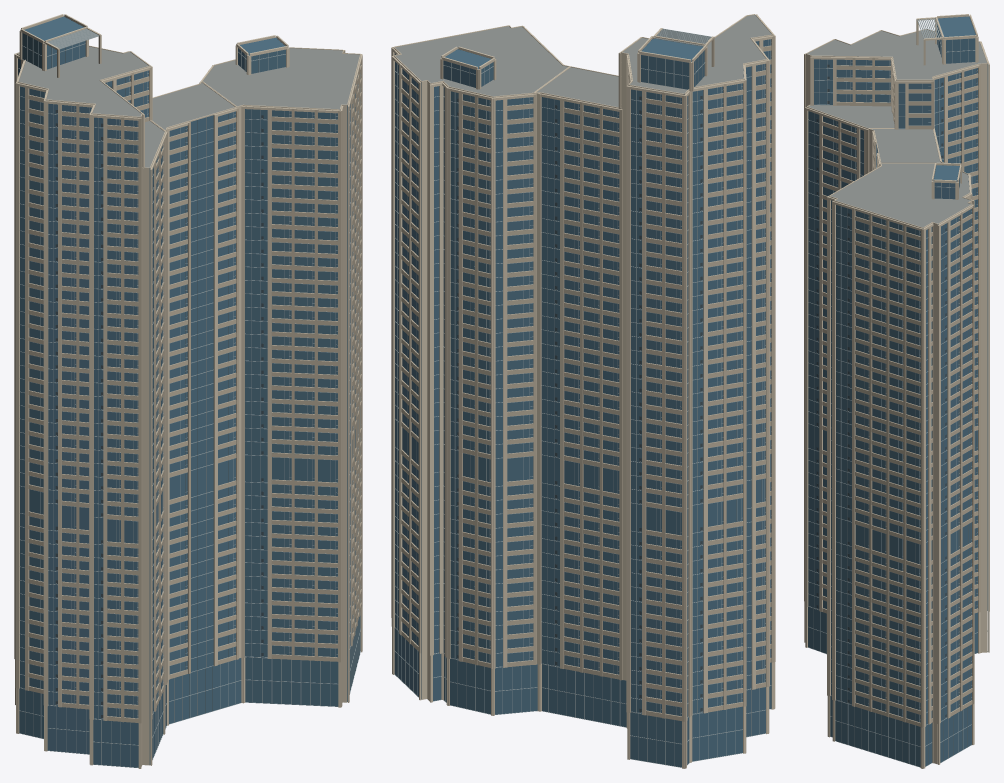
Rendered from bespoke-galleria-palace-a.glb.
3 views of the same model, side by side, from view 1: azimuth 30°, elevation 25°; view 2: azimuth 150°, elevation 25°; view 3: azimuth 270°, elevation 25° (orthographic). The views are drawn at different scales.
Visible parts, largest first — view 1: bespoke-galleria-palace-a_export_batch_2, bespoke-galleria-palace-a_export_batch_6, bespoke-galleria-palace-a_export_batch_3, bespoke-galleria-palace-a_export_batch_4, bespoke-galleria-palace-a_export_batch_5, bespoke-galleria-palace-a_export_batch_8, bespoke-galleria-palace-a_export_batch_7; view 2: bespoke-galleria-palace-a_export_batch_2, bespoke-galleria-palace-a_export_batch_6, bespoke-galleria-palace-a_export_batch_3, bespoke-galleria-palace-a_export_batch_4, bespoke-galleria-palace-a_export_batch_5, bespoke-galleria-palace-a_export_batch_8, bespoke-galleria-palace-a_export_batch_7; view 3: bespoke-galleria-palace-a_export_batch_2, bespoke-galleria-palace-a_export_batch_6, bespoke-galleria-palace-a_export_batch_3, bespoke-galleria-palace-a_export_batch_4, bespoke-galleria-palace-a_export_batch_5, bespoke-galleria-palace-a_export_batch_7.
Boxes of the visible parts, bbox=[...] form: bespoke-galleria-palace-a_export_batch_2: bbox=[18, 16, 360, 767]; bespoke-galleria-palace-a_export_batch_6: bbox=[15, 34, 362, 723]; bespoke-galleria-palace-a_export_batch_3: bbox=[14, 14, 362, 768]; bespoke-galleria-palace-a_export_batch_4: bbox=[18, 28, 361, 767]; bespoke-galleria-palace-a_export_batch_5: bbox=[18, 46, 359, 167]; bespoke-galleria-palace-a_export_batch_8: bbox=[29, 78, 337, 718]; bespoke-galleria-palace-a_export_batch_7: bbox=[55, 86, 263, 718]; bespoke-galleria-palace-a_export_batch_2: bbox=[394, 38, 771, 767]; bespoke-galleria-palace-a_export_batch_6: bbox=[392, 14, 774, 721]; bespoke-galleria-palace-a_export_batch_3: bbox=[391, 14, 775, 768]; bespoke-galleria-palace-a_export_batch_4: bbox=[394, 28, 771, 767]; bespoke-galleria-palace-a_export_batch_5: bbox=[395, 15, 771, 107]; bespoke-galleria-palace-a_export_batch_8: bbox=[401, 46, 771, 716]; bespoke-galleria-palace-a_export_batch_7: bbox=[457, 95, 702, 712]; bespoke-galleria-palace-a_export_batch_2: bbox=[808, 16, 987, 767]; bespoke-galleria-palace-a_export_batch_6: bbox=[804, 17, 984, 727]; bespoke-galleria-palace-a_export_batch_3: bbox=[804, 14, 989, 768]; bespoke-galleria-palace-a_export_batch_4: bbox=[808, 18, 988, 767]; bespoke-galleria-palace-a_export_batch_5: bbox=[807, 29, 986, 227]; bespoke-galleria-palace-a_export_batch_7: bbox=[816, 64, 946, 717].
Size of the model in its own units: 79.28 by 149 by 40.9.
